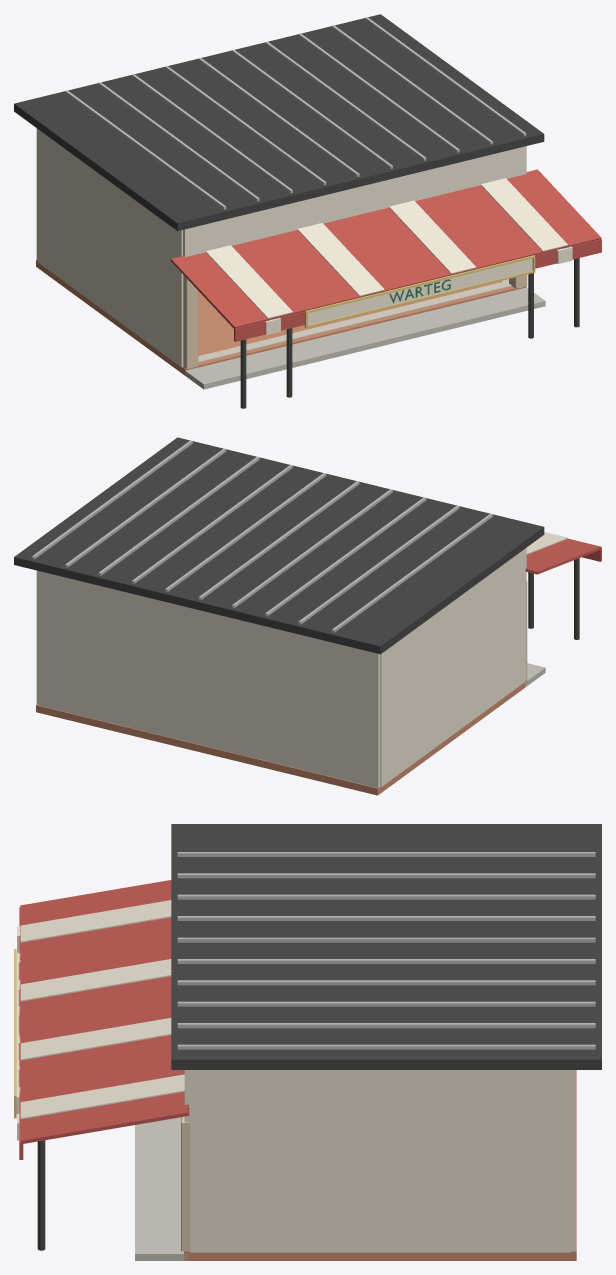
The model's file is WartegShell.fbx.
3 renders of one model, top to bottom at view 1: azimuth 30°, elevation 25°; view 2: azimuth 150°, elevation 25°; view 3: azimuth 270°, elevation 25°, orthographic. The views are drawn at different scales.
Parts seen in each view (by area): view 1: Roof, Awning, RightWall, FrontLintel, StepFront, FloorBase, AwningBanner, FloorBorder_S, AwningStripe_1, AwningStripe_2, AwningStripe_0, AwningStripe_3 (+14 smaller); view 2: Roof, BackWall, RightWall, FloorBase, Awning, RoofRidge_01, RoofRidge_08, RoofRidge_00, RoofRidge_03, RoofRidge_05, RoofRidge_06, RoofRidge_07 (+4 smaller); view 3: Roof, LeftWall, Awning, StepFront, FloorBase, AwningStripe_0, AwningStripe_2, AwningStripe_1, AwningStripe_3, RoofRidge_00, RoofRidge_01, RoofRidge_02 (+10 smaller).
Boxes of the visible parts, x1,y1,x2,y2 form: Roof: (14, 14, 544, 231); Awning: (171, 169, 601, 328); RightWall: (37, 129, 183, 367); FrontLintel: (183, 146, 526, 257); StepFront: (184, 287, 545, 389); FloorBase: (36, 259, 526, 375); AwningBanner: (308, 258, 532, 325); FloorBorder_S: (198, 282, 511, 362); AwningStripe_1: (389, 200, 476, 273); AwningStripe_2: (297, 223, 384, 296); AwningStripe_0: (481, 178, 567, 251); AwningStripe_3: (206, 245, 292, 318); Roof: (14, 437, 544, 654); BackWall: (36, 570, 380, 787); RightWall: (380, 548, 525, 786); FloorBase: (36, 679, 526, 795); Awning: (525, 538, 601, 574); RoofRidge_01: (65, 448, 226, 567); RoofRidge_08: (298, 505, 459, 624); RoofRidge_00: (31, 440, 192, 559); RoofRidge_03: (131, 464, 292, 583); RoofRidge_05: (198, 481, 359, 600); RoofRidge_06: (231, 489, 392, 608); RoofRidge_07: (265, 497, 426, 616); Roof: (171, 824, 601, 1069); LeftWall: (190, 1070, 570, 1252); Awning: (20, 880, 189, 1144); StepFront: (135, 1117, 188, 1260); FloorBase: (184, 1070, 576, 1260); AwningStripe_0: (20, 1074, 184, 1119); AwningStripe_2: (20, 959, 171, 1001); AwningStripe_1: (20, 1018, 171, 1060); AwningStripe_3: (20, 900, 171, 942); RoofRidge_00: (177, 1044, 595, 1049); RoofRidge_01: (177, 1023, 595, 1028); RoofRidge_02: (177, 1001, 595, 1006).
Size of the model in its own units: 8.8 by 3.71 by 9.29.
